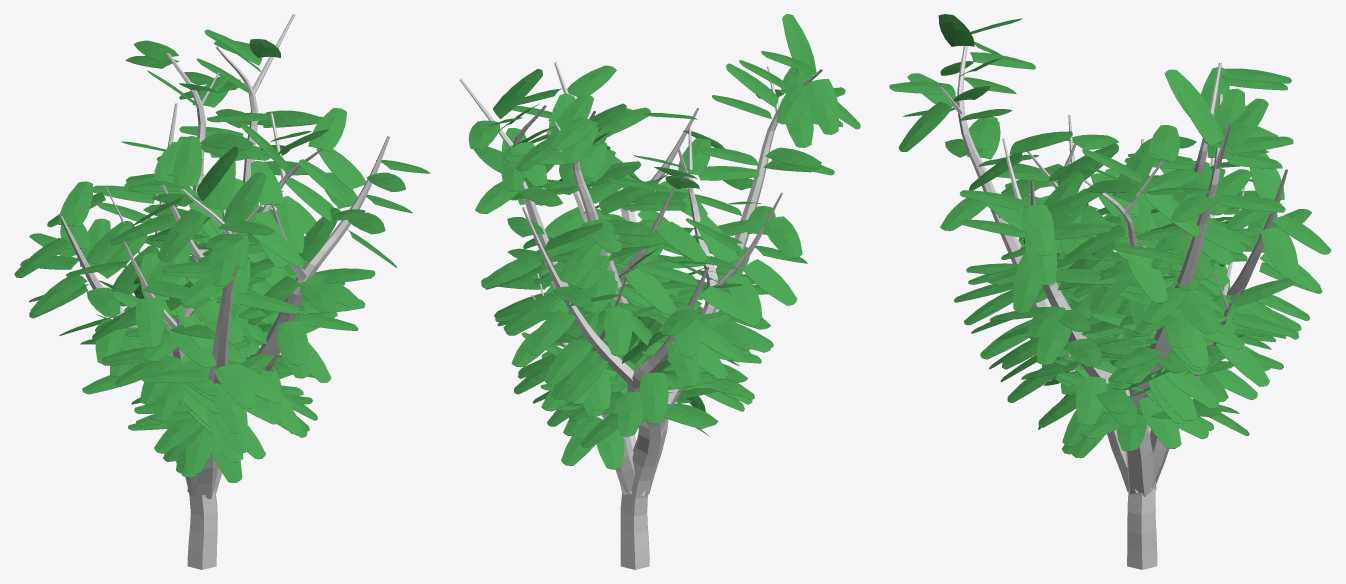
Rendered from Tree2.fbx.
3 renders of one model, left to right at view 1: azimuth 30°, elevation 25°; view 2: azimuth 150°, elevation 25°; view 3: azimuth 270°, elevation 25°, orthographic. The views are drawn at different scales.
Parts seen in each view (by area): view 1: Cube.001, LeafTree, STub; view 2: Cube.001, LeafTree, STub; view 3: Cube.001, LeafTree, STub.
Boxes of the visible parts, x1,y1,x2,y2 form: Cube.001: (14, 29, 430, 482); LeafTree: (59, 14, 389, 384); STub: (167, 429, 222, 569); Cube.001: (468, 14, 860, 469); LeafTree: (459, 62, 822, 423); STub: (603, 418, 668, 569); Cube.001: (889, 14, 1331, 458); LeafTree: (939, 46, 1287, 406); STub: (1107, 423, 1169, 569).
Size of the model in its own units: 253 by 361 by 278.
